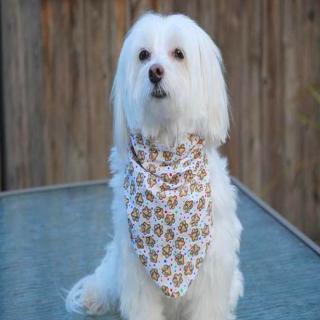dog: (113, 13, 230, 166)
nose: (146, 58, 170, 85)
